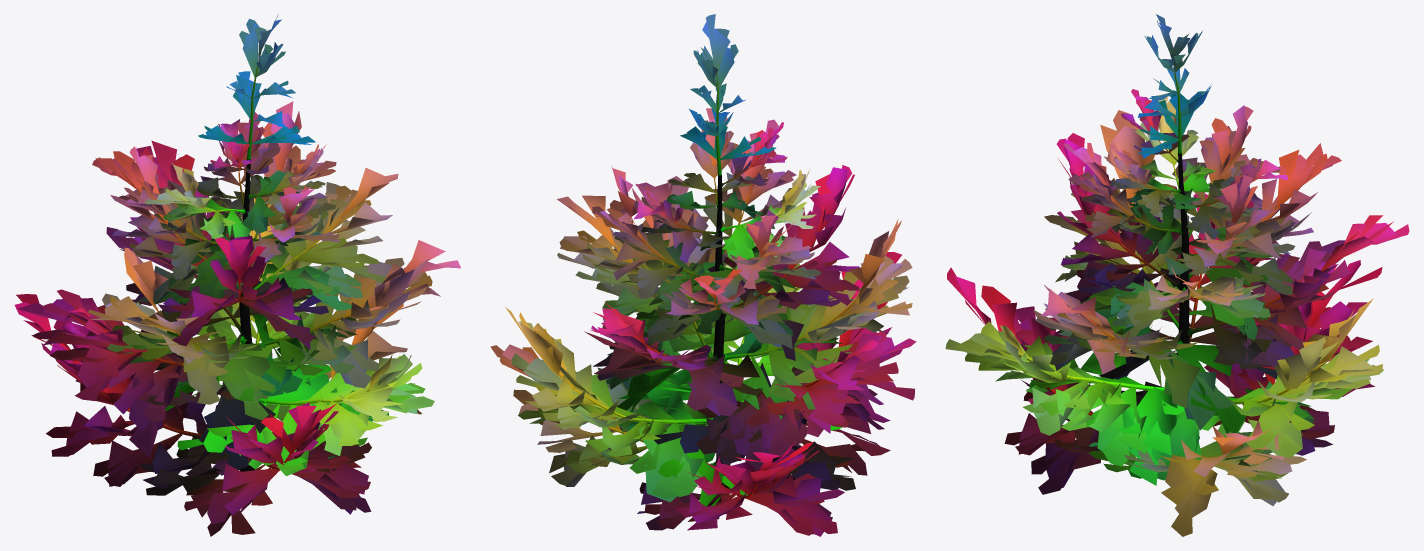
File: SM_SilverFir_S_01.fbx
3 renders of one model, left to right at view 1: azimuth 30°, elevation 25°; view 2: azimuth 150°, elevation 25°; view 3: azimuth 270°, elevation 25°, orthographic.
Parts seen in each view (by area): view 1: SM_SilverFir_S_01_LOD0; view 2: SM_SilverFir_S_01_LOD0; view 3: SM_SilverFir_S_01_LOD0.
Part boxes in pixels (x1=…): SM_SilverFir_S_01_LOD0: x1=14, y1=14, x2=460, y2=536; SM_SilverFir_S_01_LOD0: x1=490, y1=14, x2=916, y2=536; SM_SilverFir_S_01_LOD0: x1=945, y1=14, x2=1409, y2=536.
Size of the model in its own units: 301 by 319 by 356.
